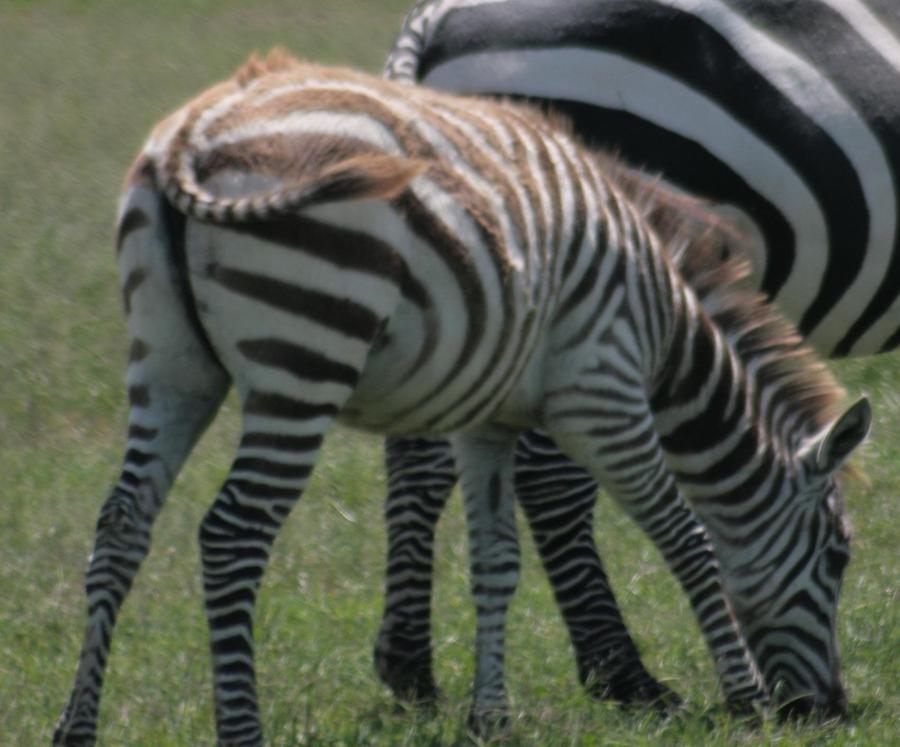zebra_plains: (198, 99, 645, 478)
